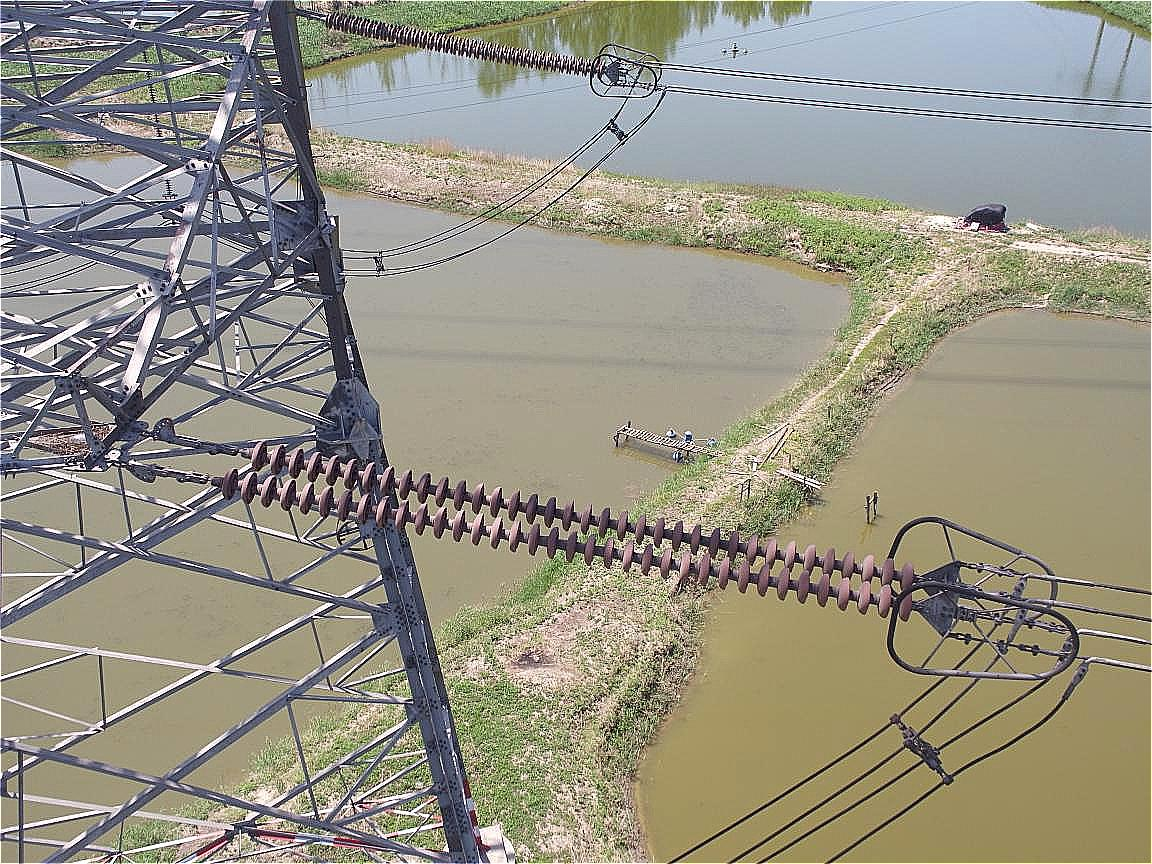insultor1: (164, 440, 953, 638)
